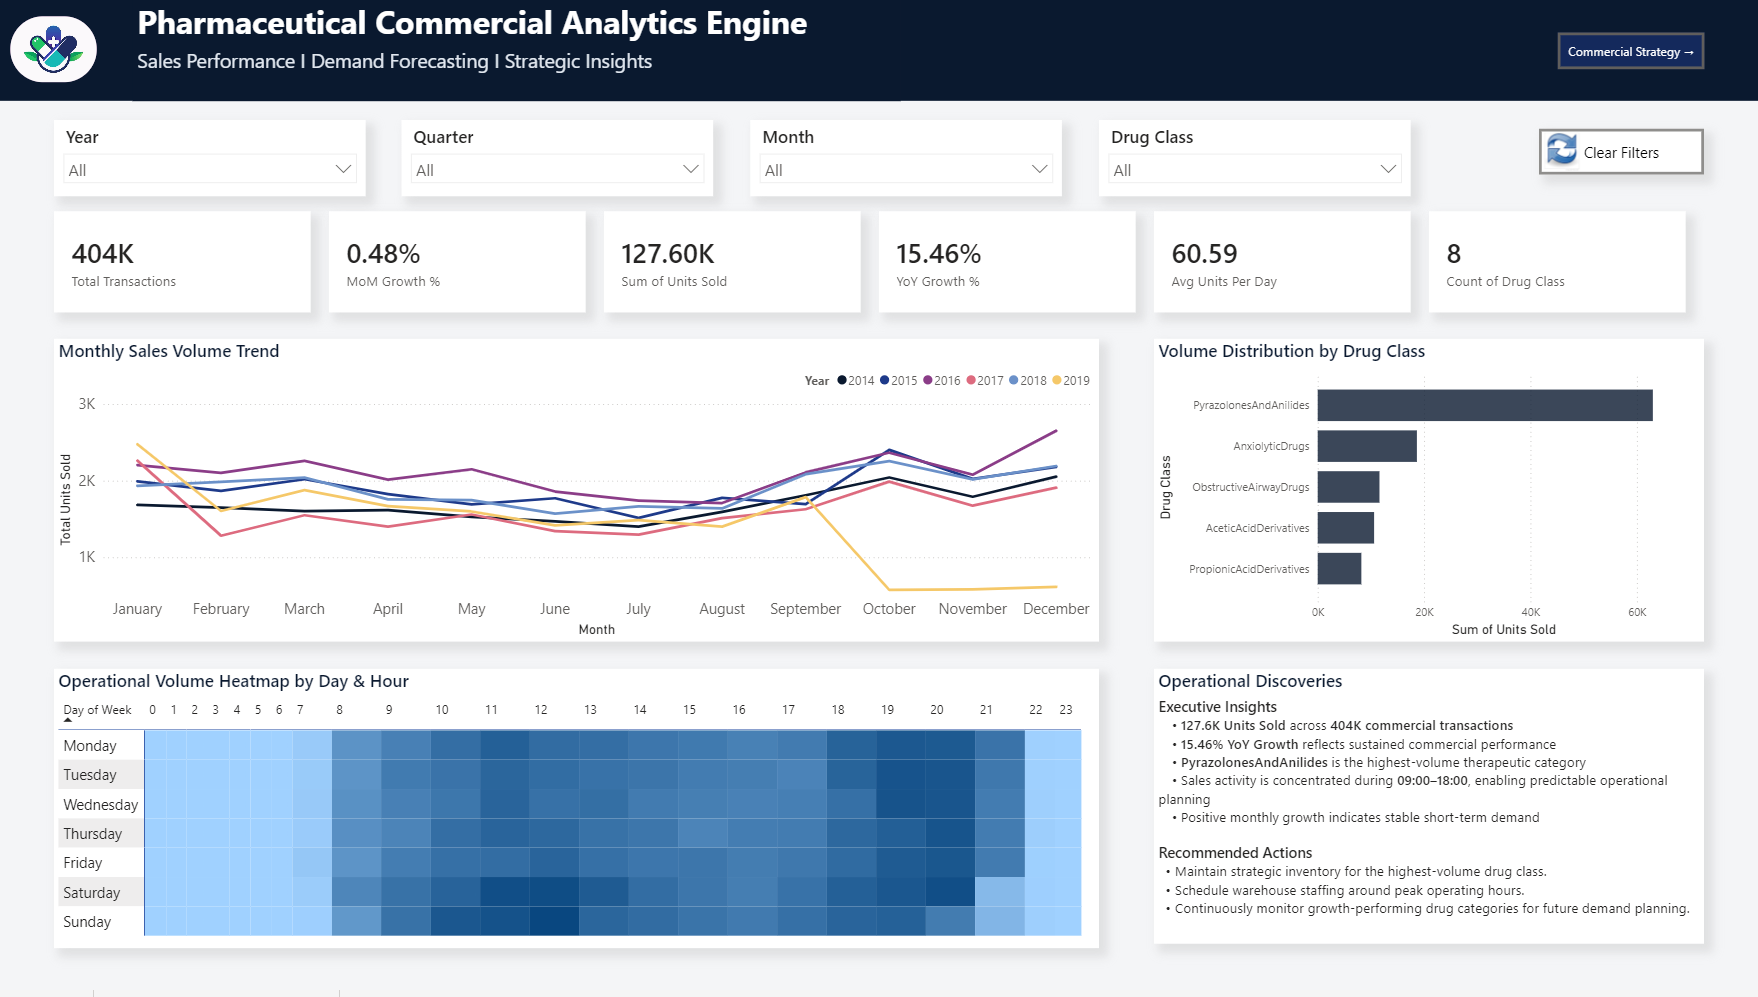

What the dashboard file says about the page in this screenshot:
{"tool":"powerbi","page":{"name":"Page 1","canvas":[1920,1080],"ordinal":0},"visuals":[{"type":"shape","title":"Pharmaceutical Commercial Analytics Engine","box":[0,0,1920.1,110],"z":0},{"type":"slicer","fields":{"Values":["FactSales.Year"]},"box":[59.7,130.3,340.2,83.2],"z":1000},{"type":"slicer","fields":{"Values":["DimCalendar.Quarter"]},"box":[439.7,130.3,340.2,83.2],"z":2000},{"type":"slicer","fields":{"Values":["FactSales.Month"]},"box":[819.8,130.3,340.2,83.2],"z":3000},{"type":"slicer","fields":{"Values":["FactSales.Drug Class"]},"box":[1199.8,130.3,340.2,83.2],"z":4000},{"type":"cardVisual","fields":{"Data":["Sum(FactSales.Units Sold)"]},"box":[660,230,280,110],"z":5000},{"type":"cardVisual","fields":{"Data":["Measures Table.Total Transactions"]},"box":[60,230,280,110],"z":6000},{"type":"cardVisual","fields":{"Data":["Measures Table.MoM Growth %"]},"box":[360,230,280,110],"z":7000},{"type":"cardVisual","fields":{"Data":["Measures Table.YoY Growth %"]},"box":[960,230,280,110],"z":8000},{"type":"cardVisual","fields":{"Data":["Measures Table.Avg Units Per Day"]},"box":[1260,230,280,110],"z":9000},{"type":"cardVisual","fields":{"Data":["Count(FactSales.Drug Class)"]},"box":[1560,230,280,110],"z":10000},{"type":"lineChart","title":"Monthly Sales Volume Trend","fields":{"Y":["Measures Table.Total Units Sold"],"Category":["DimCalendar.Month"],"Series":["FactSales.Year"]},"box":[60,370,1140,330],"z":11000},{"type":"actionButton","box":[1680,140,180,50],"z":12000},{"type":"image","box":[12.7,18.1,94.1,72.4],"z":13000},{"type":"textbox","title":"Pharmaceutical Commercial Analytics Engine","box":[146.6,0,837.9,110.4],"z":14000},{"type":"pivotTable","title":"Operational Volume Heatmap by Day & Hour","fields":{"Rows":["DimCalendar.Weekday"],"Columns":["FactSales.Hour"],"Values":["Measures Table.Total Units Sold"]},"box":[60,730,1140,305],"z":15000},{"type":"clusteredBarChart","title":"Volume Distribution by Drug Class","fields":{"Category":["DimDrug.Drug Class"],"Y":["Sum(FactSales.Units Sold)"]},"box":[1260,370,600,330],"z":16000},{"type":"textbox","title":"Operational Discoveries","box":[1260,730,600,300],"z":17000},{"type":"actionButton","box":[1700,35,160,40],"z":18000}]}

Visuals, with their boxes in screenshot pixels (x1, y1, x2, y2), scaled from the page's 1920x1080 canvas onto the 1758x997 screenshot:
"Pharmaceutical Commercial Analytics Engine" shape: bbox=[0, 0, 1757, 102]
slicer - FactSales.Year: bbox=[55, 120, 366, 197]
slicer - DimCalendar.Quarter: bbox=[403, 120, 714, 197]
slicer - FactSales.Month: bbox=[751, 120, 1062, 197]
slicer - FactSales.Drug Class: bbox=[1099, 120, 1410, 197]
cardVisual - Sum(FactSales.Units Sold): bbox=[604, 212, 861, 314]
cardVisual - Measures Table.Total Transactions: bbox=[55, 212, 311, 314]
cardVisual - Measures Table.MoM Growth %: bbox=[330, 212, 586, 314]
cardVisual - Measures Table.YoY Growth %: bbox=[879, 212, 1135, 314]
cardVisual - Measures Table.Avg Units Per Day: bbox=[1154, 212, 1410, 314]
cardVisual - Count(FactSales.Drug Class): bbox=[1428, 212, 1685, 314]
"Monthly Sales Volume Trend" lineChart: bbox=[55, 342, 1099, 646]
actionButton: bbox=[1538, 129, 1703, 175]
image: bbox=[12, 17, 98, 84]
"Pharmaceutical Commercial Analytics Engine" textbox: bbox=[134, 0, 901, 102]
"Operational Volume Heatmap by Day & Hour" pivotTable: bbox=[55, 674, 1099, 955]
"Volume Distribution by Drug Class" clusteredBarChart: bbox=[1154, 342, 1703, 646]
"Operational Discoveries" textbox: bbox=[1154, 674, 1703, 951]
actionButton: bbox=[1557, 32, 1703, 69]
